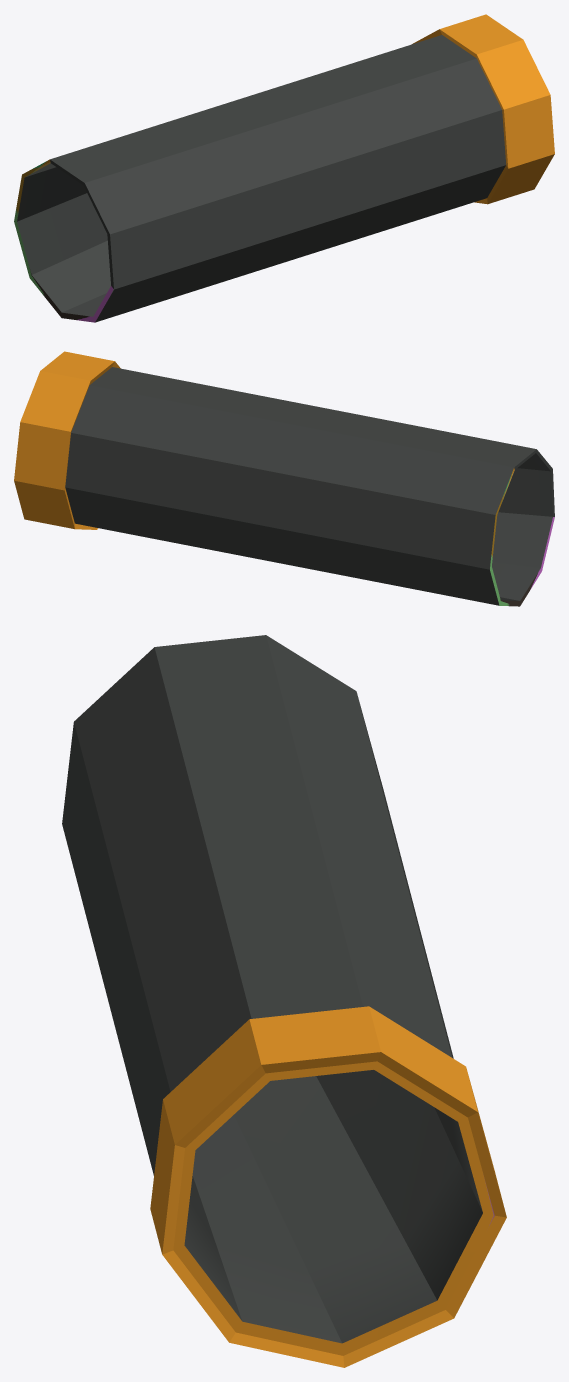
The model's file is Pipe_Off.fbx.
3 renders of one model, top to bottom at view 1: azimuth 30°, elevation 25°; view 2: azimuth 150°, elevation 25°; view 3: azimuth 270°, elevation 25°, orthographic. The views are drawn at different scales.
Visible parts, largest first — view 1: pCylinder13; view 2: pCylinder13; view 3: pCylinder13.
Boxes of the visible parts, x1=… form: pCylinder13: x1=14, y1=14, x2=554, y2=322; pCylinder13: x1=14, y1=351, x2=554, y2=606; pCylinder13: x1=62, y1=635, x2=506, y2=1367.
Size of the model in its own units: 45.18 by 14.69 by 18.87.
